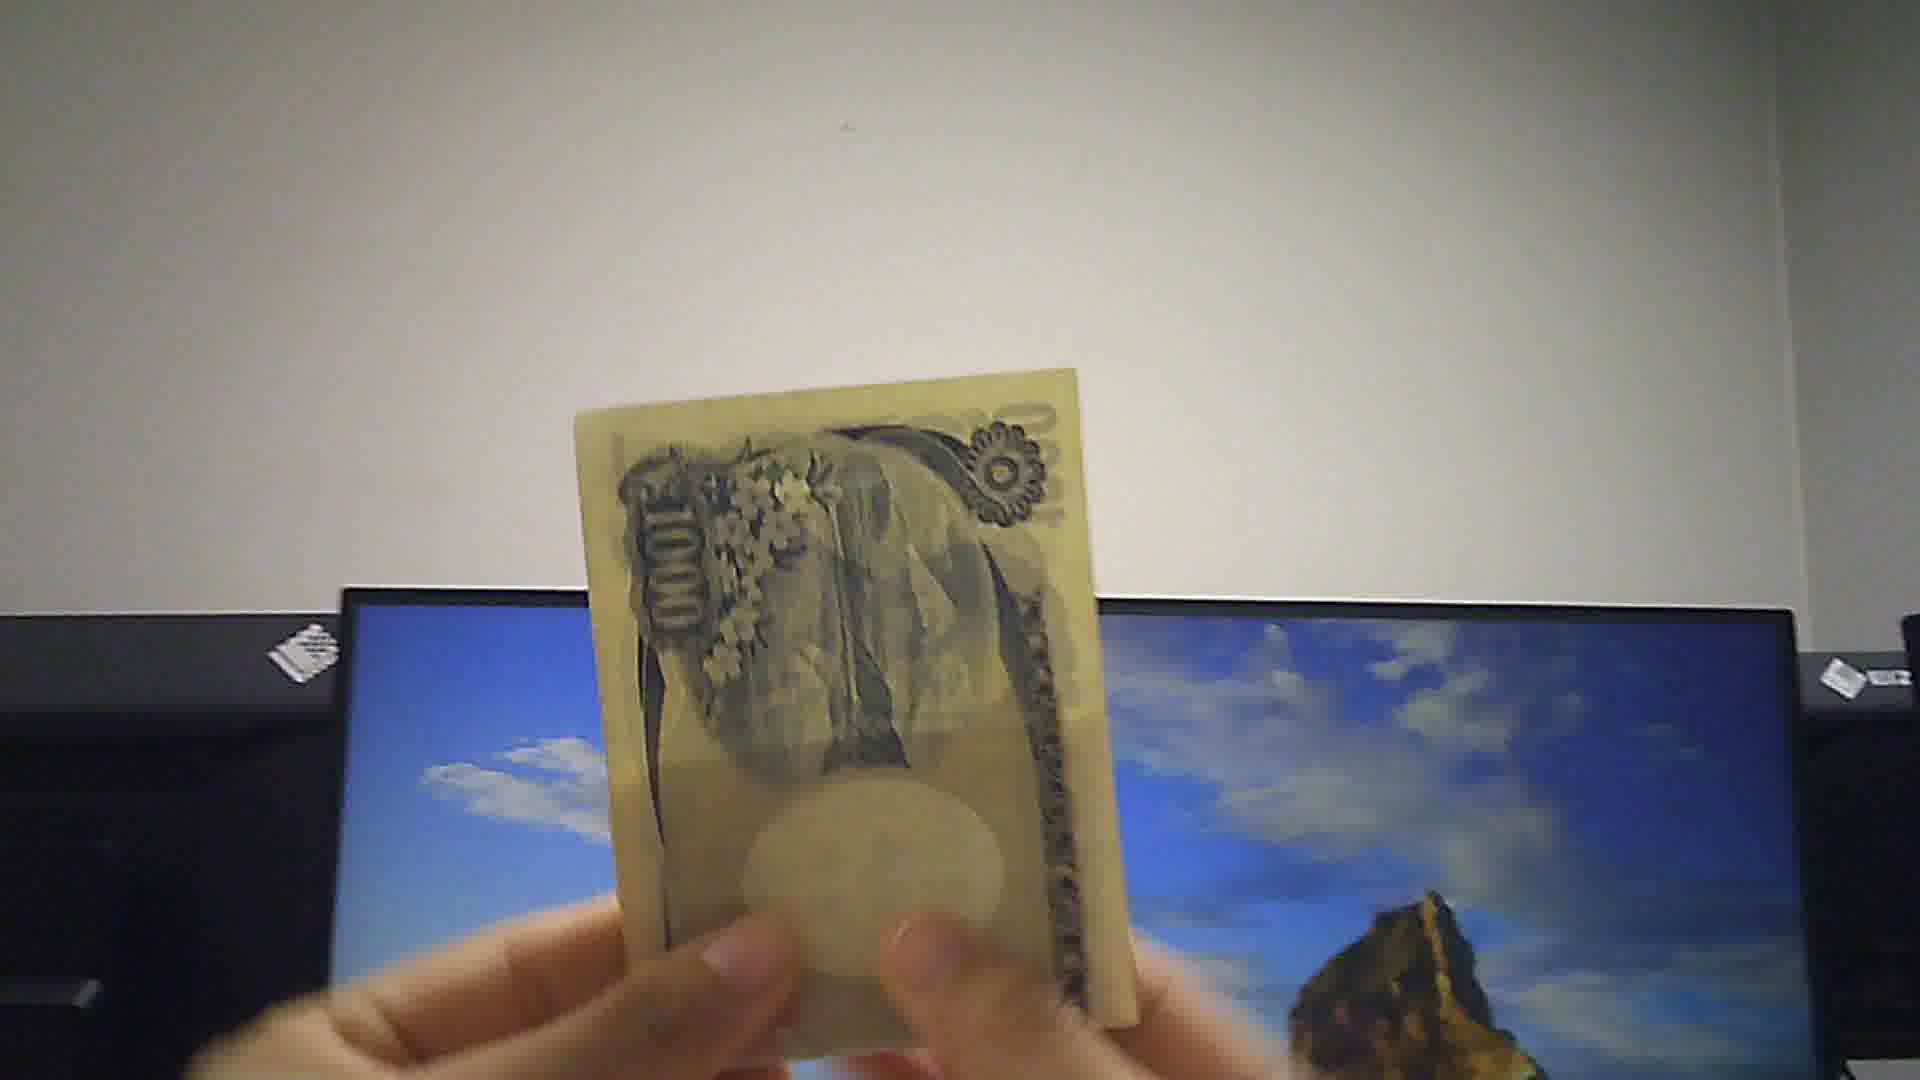1,000 Yen: (563, 375, 1159, 1042)
